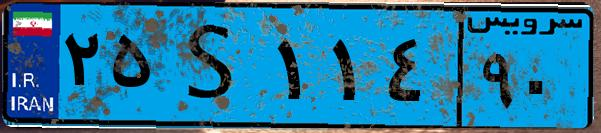0: (525, 38, 570, 115)
1: (270, 28, 330, 110), (330, 28, 385, 110)
2: (57, 26, 110, 100)
4: (385, 28, 445, 110)
5: (110, 28, 158, 98)
9: (475, 38, 525, 113)
S: (158, 12, 270, 120)
